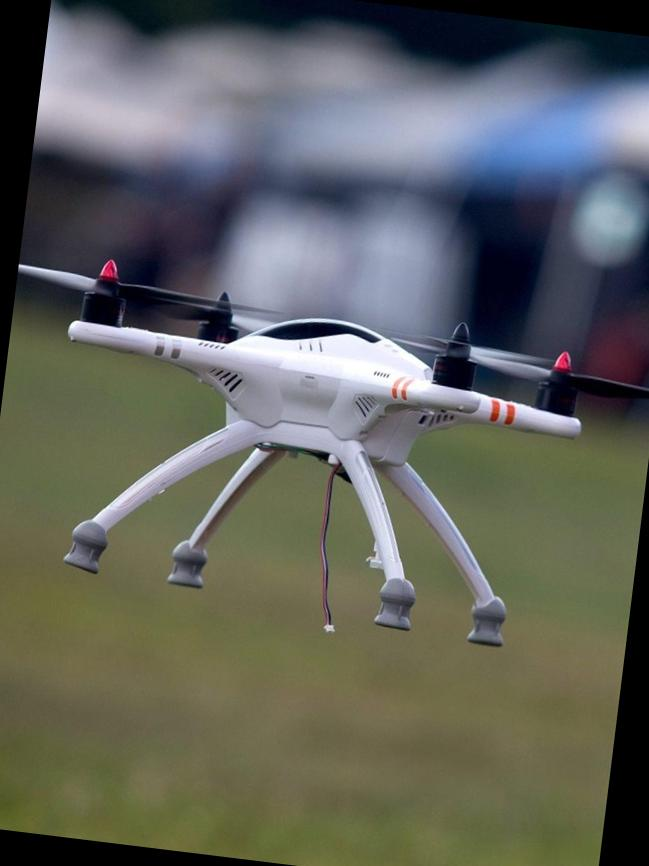drone: (0, 245, 649, 541)
